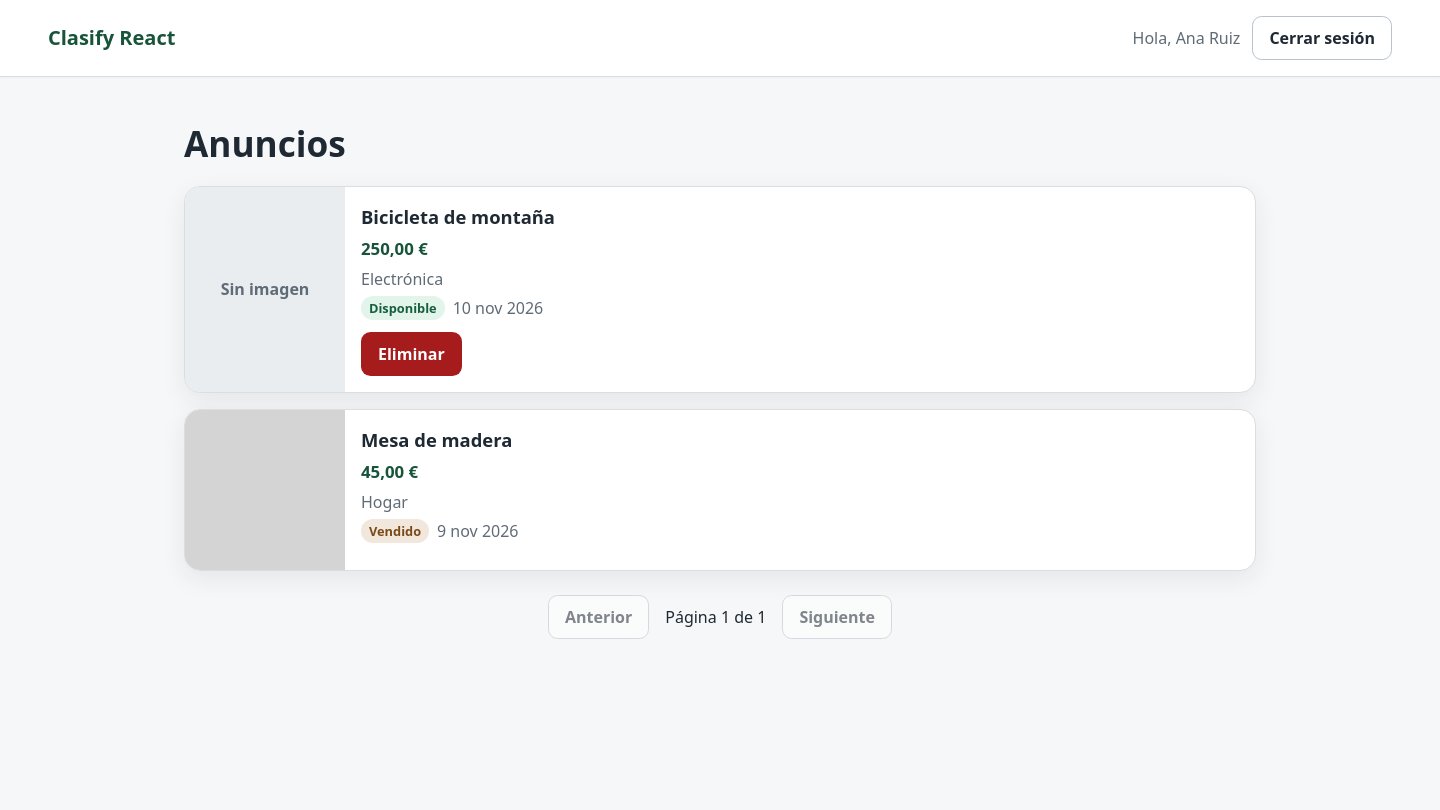
it: borrado de anuncios propios › converge cuando el anuncio ya no existe
The width and height of the screenshot is (1440, 810).
Click the button with aria-label "Eliminar Bicicleta de montaña": x=411, y=354 [361,332,462,376]
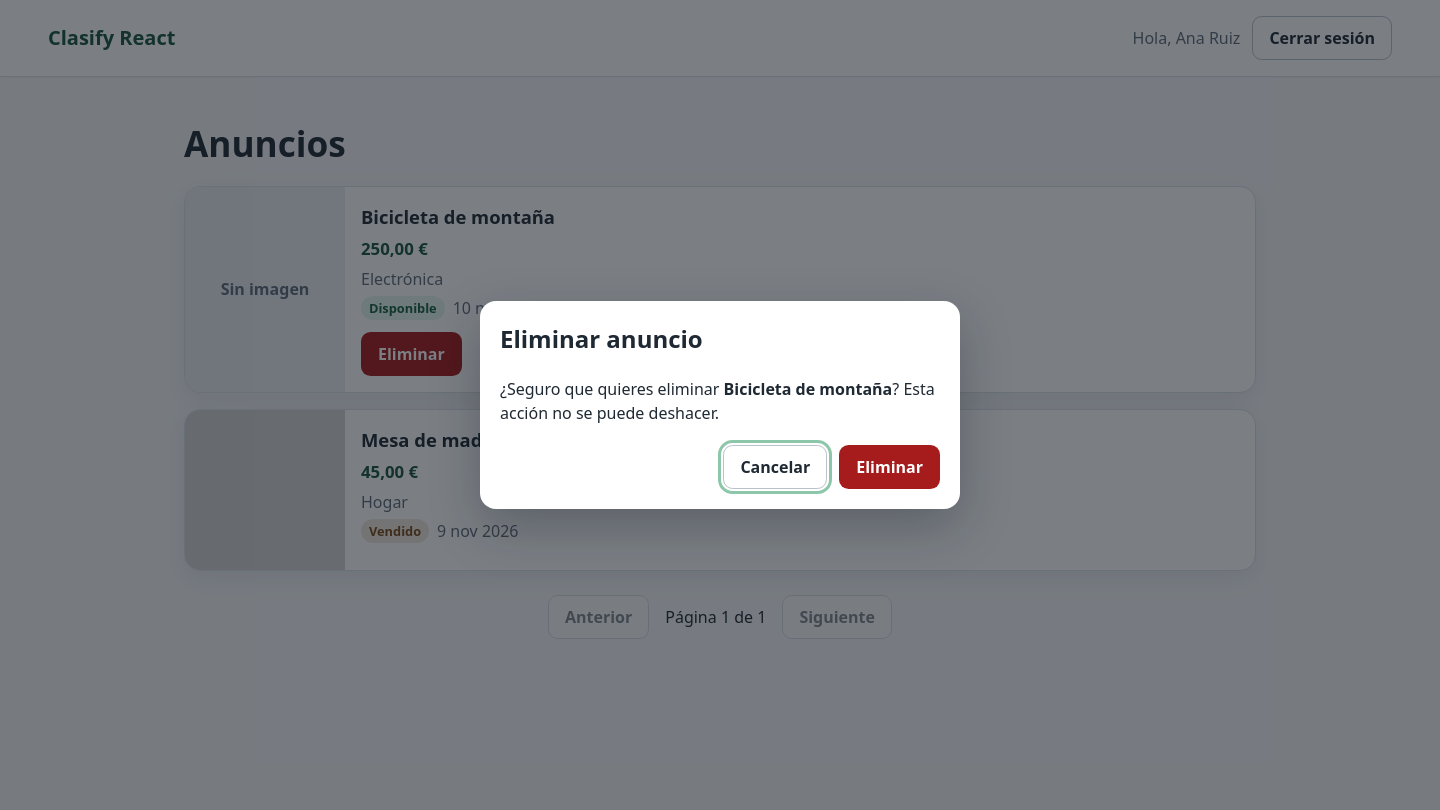
Click the button "Eliminar": x=890, y=467 [839,445,940,489]
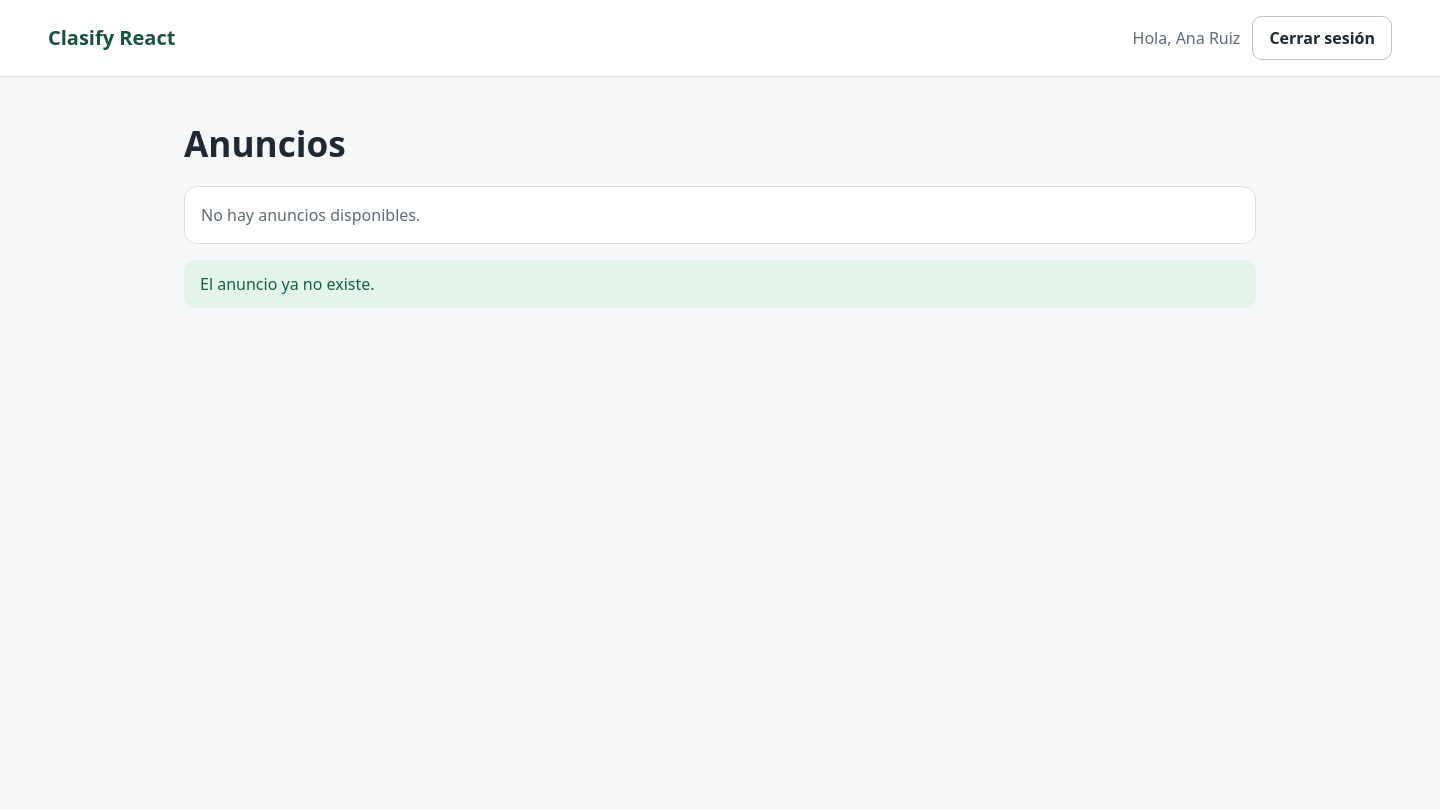
Result: the text "El anuncio ya no existe." is shown at [184,260,1256,308]
Result: the dialog is gone
